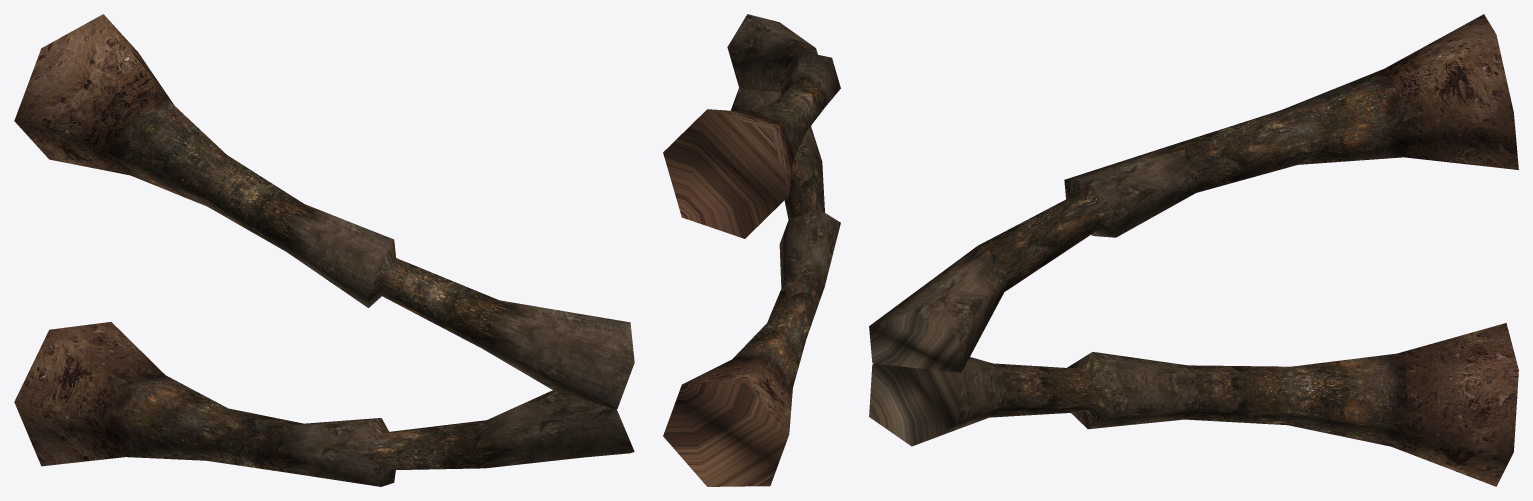
Rendered from rock-pillar_03.obj.
The picture shows the model from 3 angles, left to right: view 1: azimuth 30°, elevation 25°; view 2: azimuth 150°, elevation 25°; view 3: azimuth 270°, elevation 25°; orthographic projection. The views are drawn at different scales.
Parts seen in each view (by area): view 1: (null); view 2: (null); view 3: (null).
Part boxes in pixels (x1=…): (null): x1=14, y1=14, x2=634, y2=486; (null): x1=663, y1=14, x2=840, y2=486; (null): x1=869, y1=14, x2=1518, y2=486.
Size of the model in its own units: 6.14 by 7.81 by 10.17.
